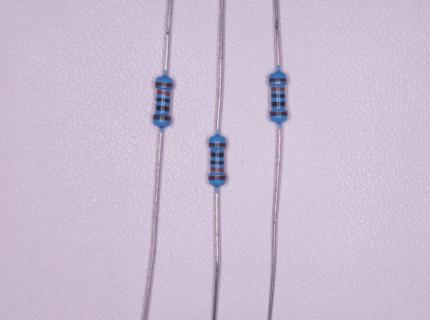Black band: (271, 101, 286, 107), (210, 152, 225, 157), (210, 160, 225, 165), (156, 98, 170, 103), (156, 106, 170, 111), (271, 94, 285, 98)
Brown band: (153, 115, 172, 121), (208, 175, 226, 181), (154, 82, 174, 87), (268, 78, 288, 82), (269, 112, 288, 116), (209, 143, 227, 147)
Orange band: (156, 90, 171, 96), (210, 167, 224, 172), (271, 87, 285, 91)
